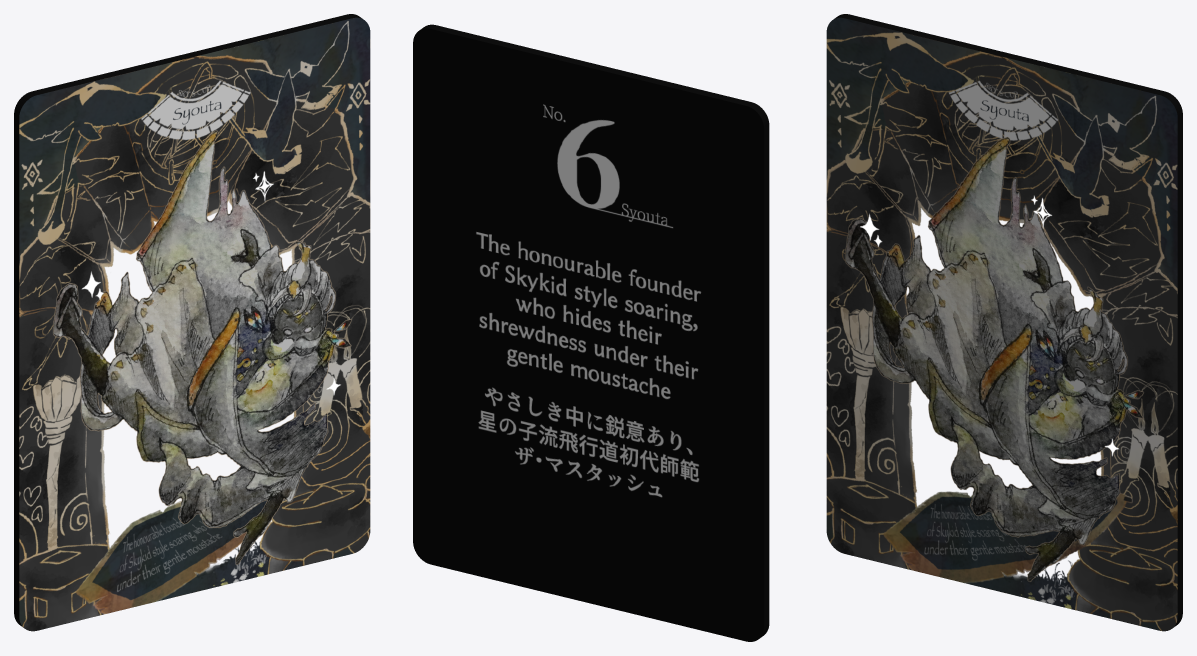
Rendered from 06_Syouta.glb.
3 views of the same model, side by side, from view 1: azimuth 30°, elevation 25°; view 2: azimuth 150°, elevation 25°; view 3: azimuth 330°, elevation 25° (orthographic).
Visible parts, largest first — view 1: きらきら; view 2: きらきら; view 3: きらきら.
Part boxes in pixels (box(x1,y1,x2,y2)): きらきら: box(14, 14, 370, 631); きらきら: box(413, 24, 769, 641); きらきら: box(826, 14, 1182, 631).
Bounding box in the file's own units: 0.236 × 0.344 × 0.023.
Materials: 5 (4 with a texture image).
